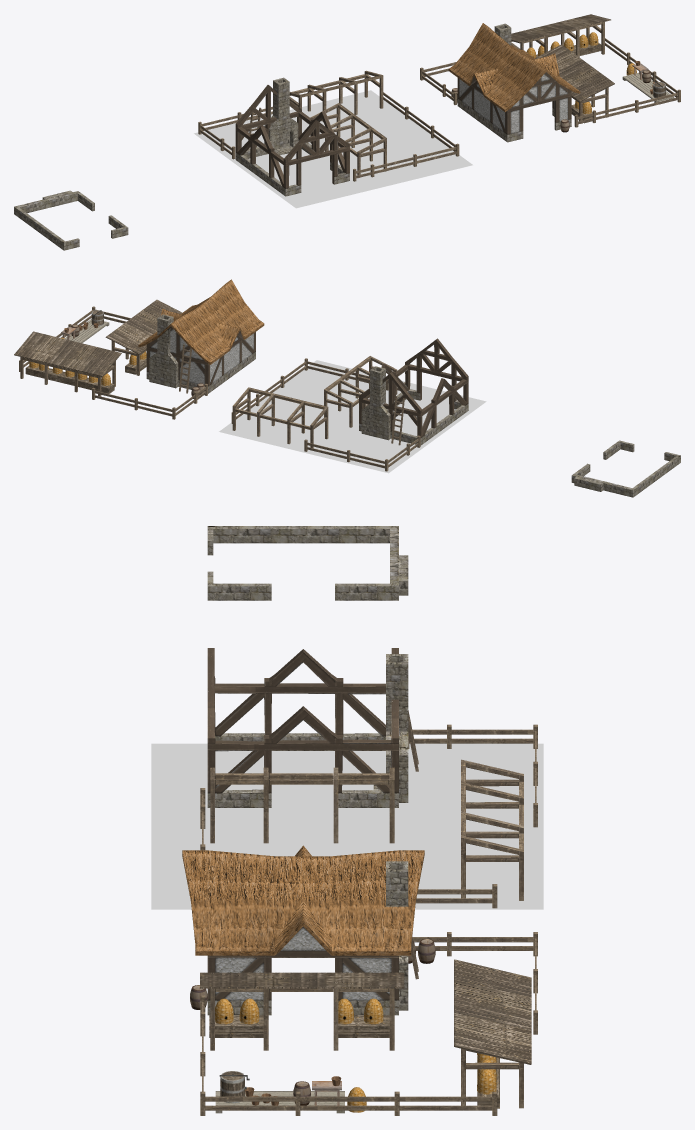
Rendered from apiary.fbx.
The picture shows the model from 3 angles, top to bottom: view 1: azimuth 30°, elevation 25°; view 2: azimuth 150°, elevation 25°; view 3: azimuth 270°, elevation 25°; orthographic projection. The views are drawn at different scales.
Parts seen in each view (by area): view 1: mesh, build02, Plane001, build01; view 2: mesh, build02, Plane001, build01; view 3: mesh, Plane001, build02, build01.
Boxes of the visible parts, x1,y1,x2,y2 form: mesh: (420,14,680,142); build02: (198,70,459,196); Plane001: (194,90,472,208); build01: (14,190,128,250); mesh: (14,279,264,419); build02: (231,338,468,471); Plane001: (219,360,486,473); build01: (571,440,680,497); mesh: (182,845,537,1115); Plane001: (151,743,543,909); build02: (200,648,537,908); build01: (207,526,408,600).
Bounding box in the file's own units: 27.74 × 3.05 × 8.
Materials: 1 (1 with a texture image).
